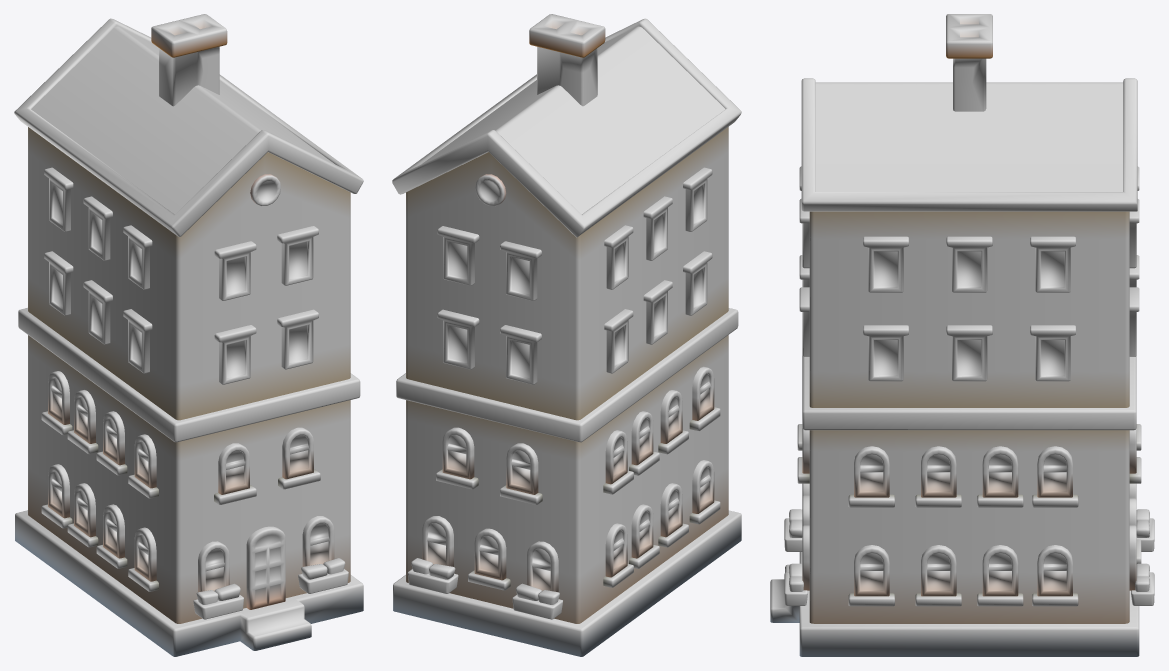
Rendered from Building_100.fbx.
3 views of the same model, side by side, from view 1: azimuth 30°, elevation 25°; view 2: azimuth 150°, elevation 25°; view 3: azimuth 270°, elevation 25° (orthographic). The views are drawn at different scales.
Visible parts, largest first — view 1: Building_100; view 2: Building_100; view 3: Building_100.
Part boxes in pixels (box(x1,y1,x2,y2)): Building_100: box(14, 14, 363, 656); Building_100: box(392, 14, 741, 656); Building_100: box(770, 14, 1154, 656).
Bounding box in the file's own units: 666 × 1080 × 1801.
